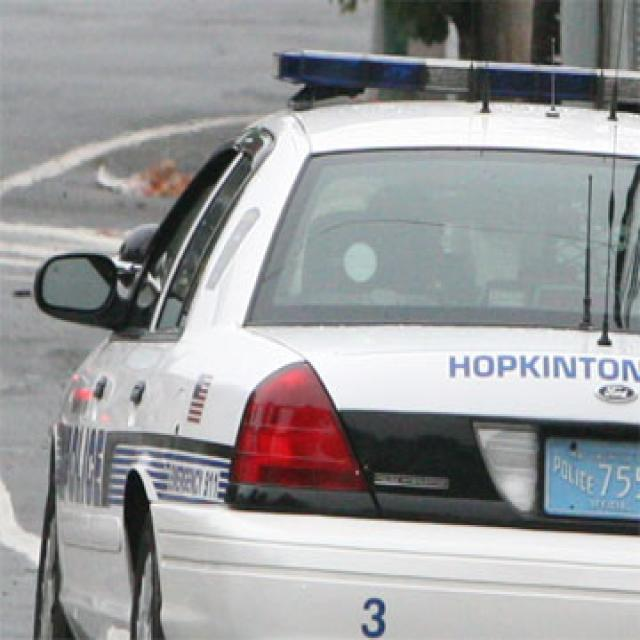Car: (32, 50, 640, 640)
